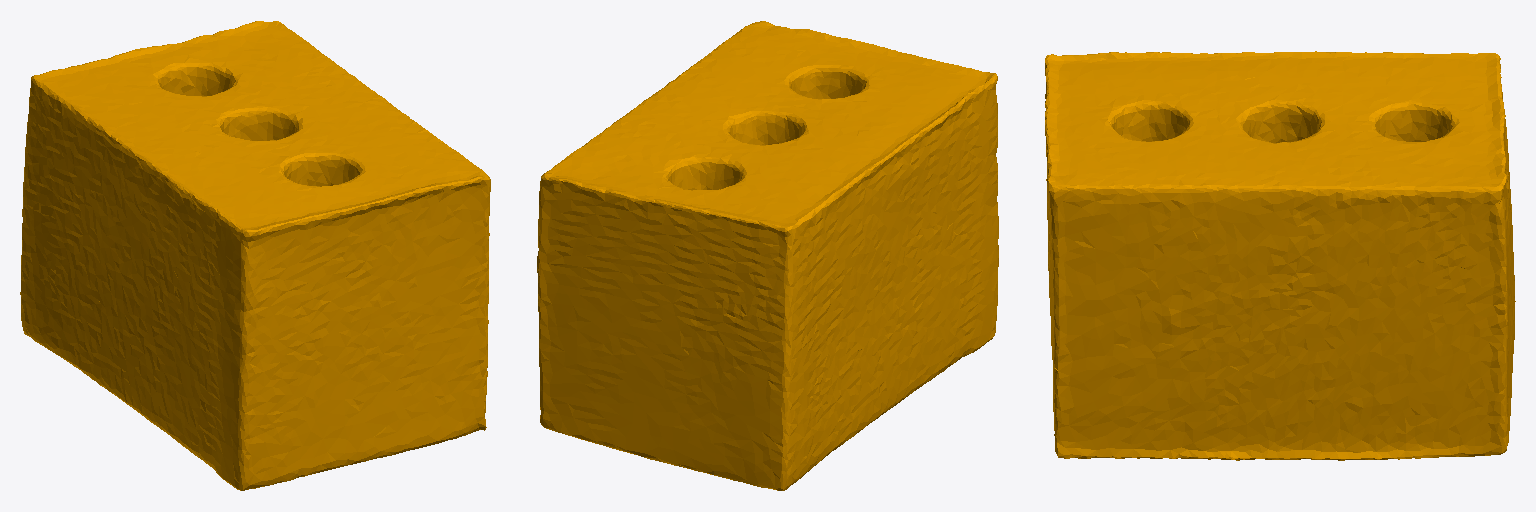
The robot description file, URDF, robot "root":
<robot name="root">
  <link name="link_original">
    <visual>
      <origin xyz="0 0 0" rpy="0 0 0"/>
      <geometry>
        <mesh filename="textured.obj" scale="1.0000E+00 1.0000E+00 1.0000E+00"/>
      </geometry>
    </visual>
    <inertial>
      <origin xyz="0 0 0" rpy="0 0 0"/>
      <mass value="1.8493E-01"/>
      <inertia ixx="1.25E-04" ixy="-5.53E-08" ixz="-1.46E-07" iyy="7.77E-05" iyz="8.85E-07" izz="1.28E-04"/>
    </inertial>
    <collision>
      <origin xyz="0 0 0" rpy="0 0 0"/>
      <geometry>
        <mesh filename="coacd_allinone.obj" scale="1.0000E+00 1.0000E+00 1.0000E+00"/>
      </geometry>
    </collision>
  </link>
</robot>

--- Render facts (derived) ---
3 views of the same robot in one strip: view 1: azimuth 30°, elevation 25°; view 2: azimuth 150°, elevation 25°; view 3: azimuth 270°, elevation 25° (orthographic).
Robot: root — 1 links, 0 joints (none); root link link_original; default pose: every joint at zero.
Visible links, largest first — view 1: link_original; view 2: link_original; view 3: link_original.
Boxes of the visible links, x1,y1,x2,y2 form: link_original: (20,21,490,490); link_original: (537,21,998,490); link_original: (1045,51,1515,460).
Size in the robot's own frame: 0.052 by 0.0776 by 0.0512 metres.
1 mesh visuals loaded from 1 distinct referenced files (1 OBJ).
